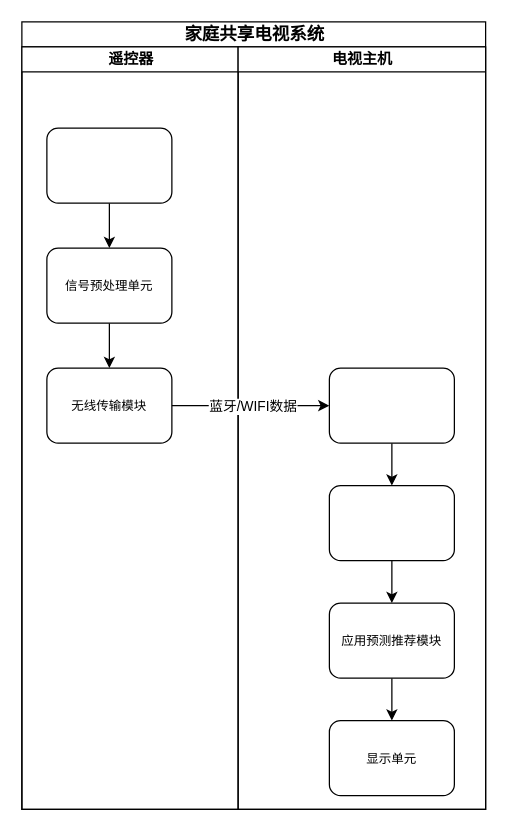
Some shapes in this 508 by 831 pixel diagram are drawn without their labels. The box of each missing label's shape, as (x1, y1, x2, y2) in pixels:
多模态融合识别模块: (328, 367, 454, 443)
生理信号采集模块: (46, 127, 172, 203)
身份识别模块: (328, 484, 454, 561)
